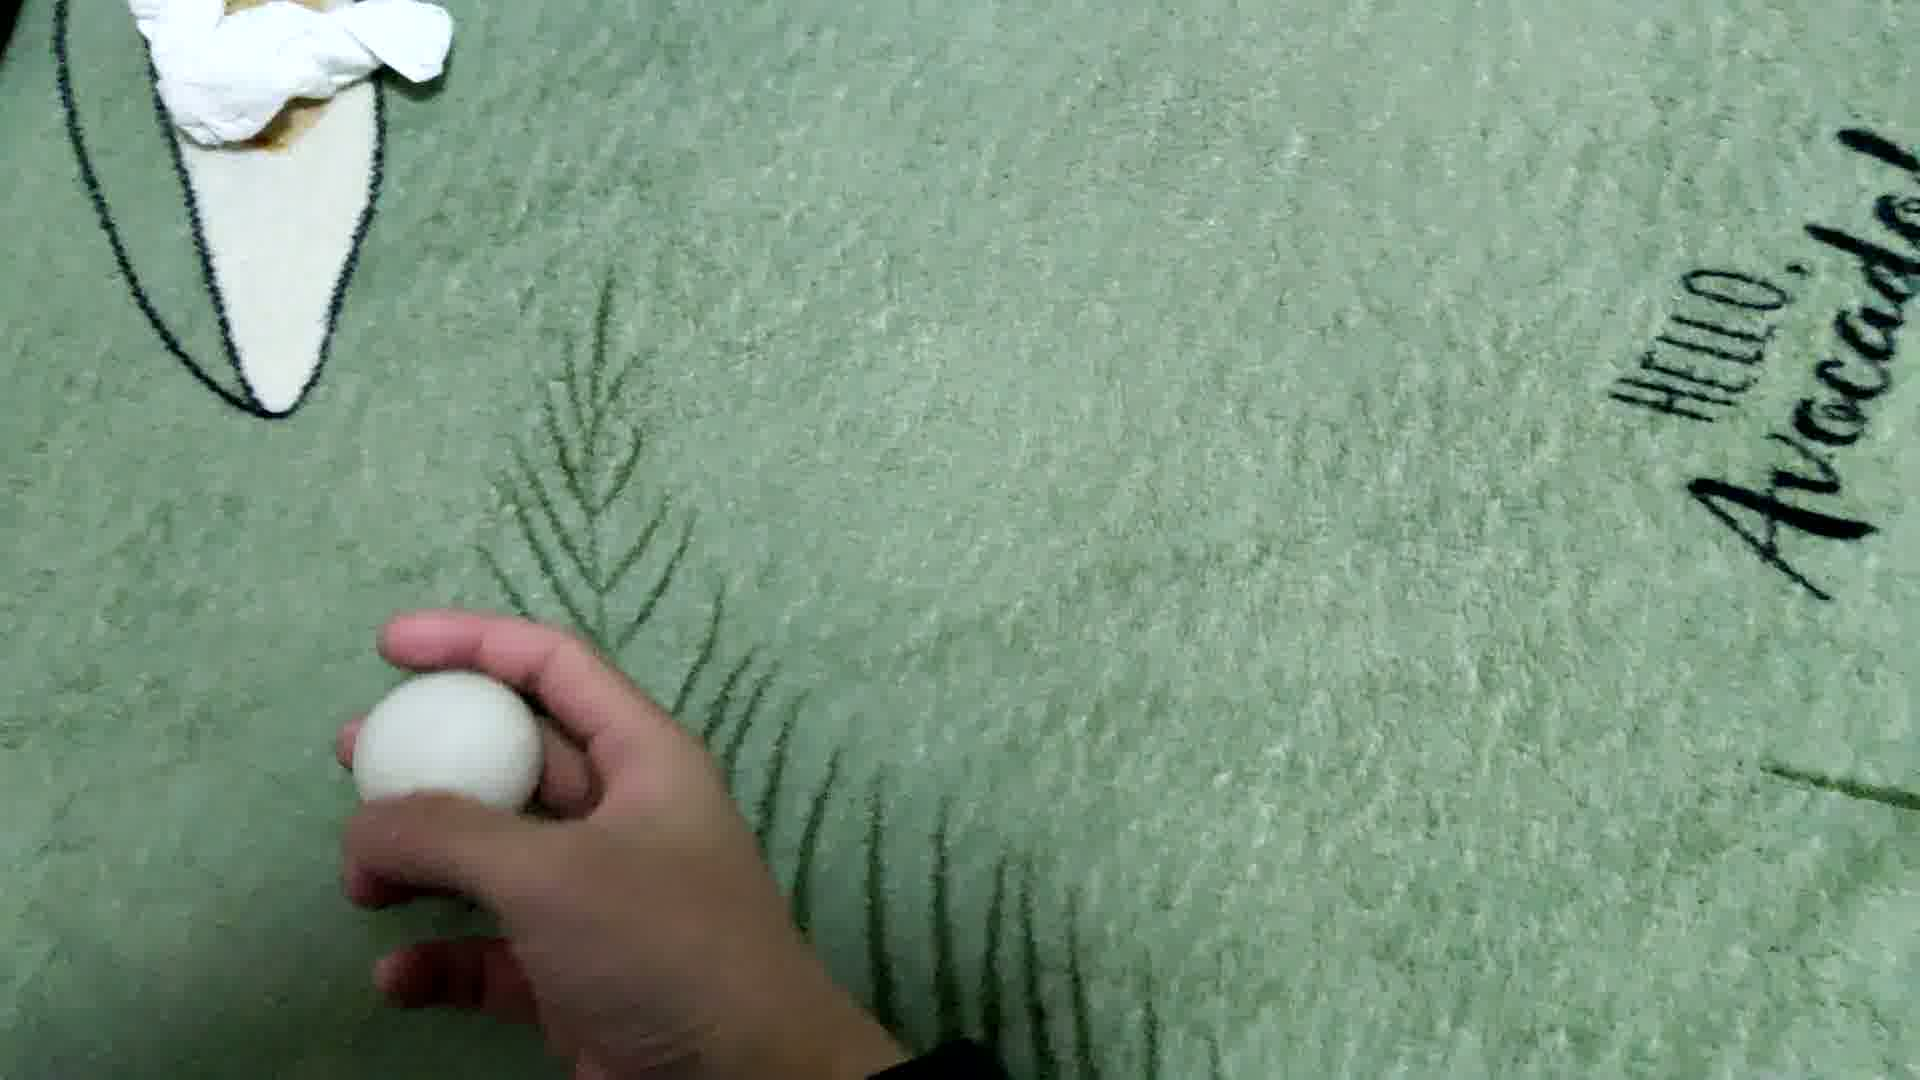Ball: (349, 671, 546, 835)
